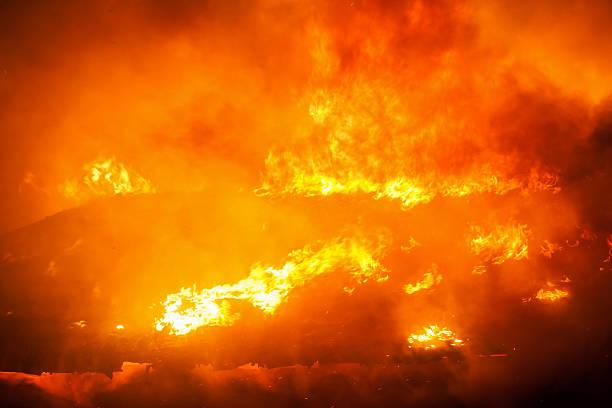Fire: (77, 63, 602, 350)
